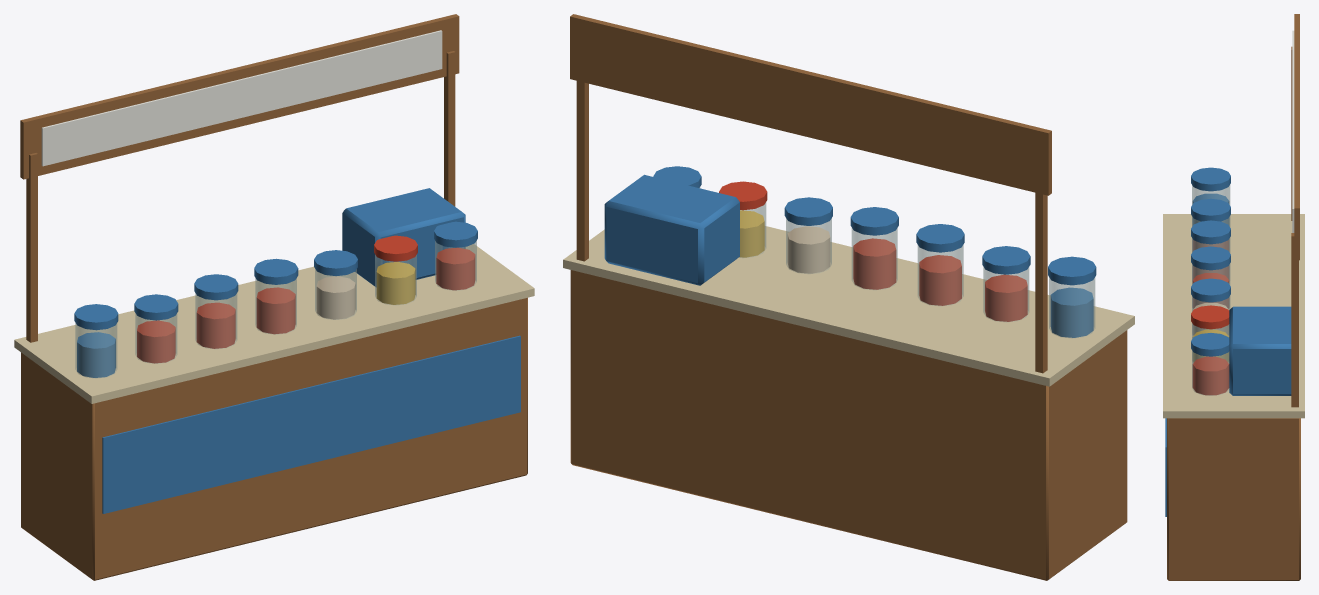
The model's file is canteen_counter.glb.
3 views of the same model, side by side, from view 1: azimuth 30°, elevation 25°; view 2: azimuth 150°, elevation 25°; view 3: azimuth 270°, elevation 25° (orthographic). The views are drawn at different scales.
Visible parts, largest first — view 1: CanteenCounter; view 2: CanteenCounter; view 3: CanteenCounter.
Part boxes in pixels (<box>): CanteenCounter: <box>14,14,534,580</box>; CanteenCounter: <box>563,14,1134,580</box>; CanteenCounter: <box>1163,14,1304,580</box>.
Size of the model in its own units: 2.44 by 2.15 by 0.74.
